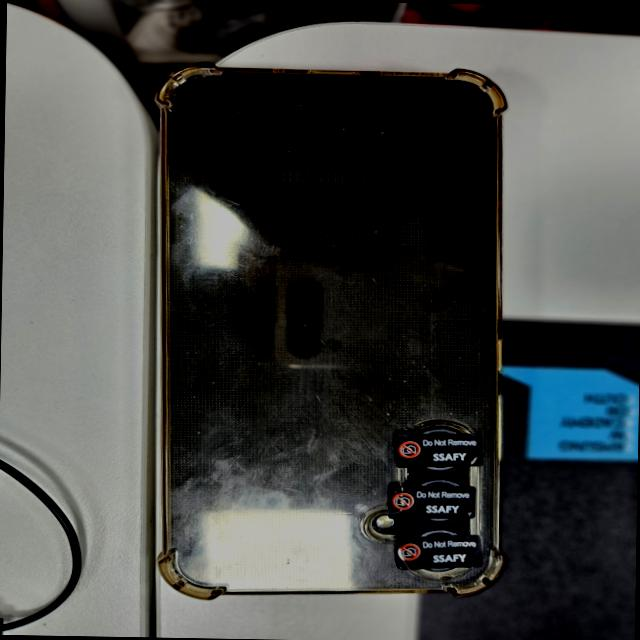phone: (145, 66, 511, 598)
sticker: (382, 478, 477, 520), (391, 427, 484, 465), (393, 530, 482, 568)
